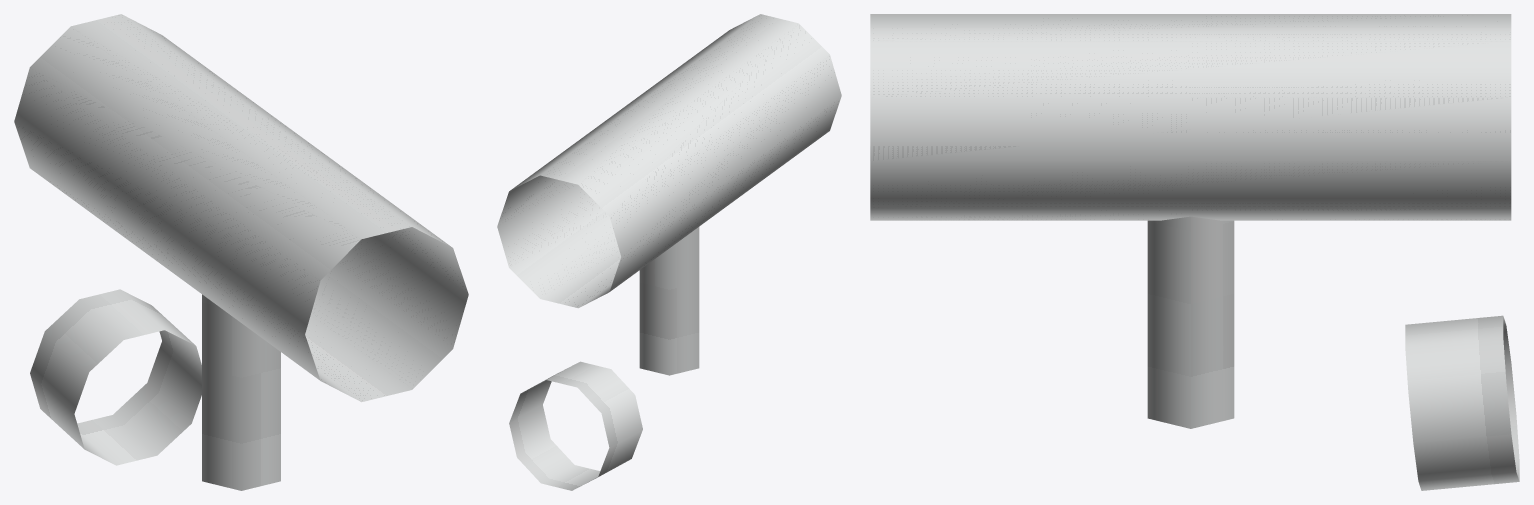
Rendered from trusssignalarm_level12_c13.obj.
3 renders of one model, left to right at view 1: azimuth 30°, elevation 25°; view 2: azimuth 150°, elevation 25°; view 3: azimuth 270°, elevation 25°, orthographic. The views are drawn at different scales.
Parts seen in each view (by area): view 1: trusssignalarm_level12_c13; view 2: trusssignalarm_level12_c13; view 3: trusssignalarm_level12_c13.
Part boxes in pixels (x1,y1,x2,y2): trusssignalarm_level12_c13: (14, 14, 468, 490); trusssignalarm_level12_c13: (497, 14, 841, 490); trusssignalarm_level12_c13: (870, 14, 1519, 490).
Bounding box in the file's own units: 0.325 × 0.7787 × 1.01.
